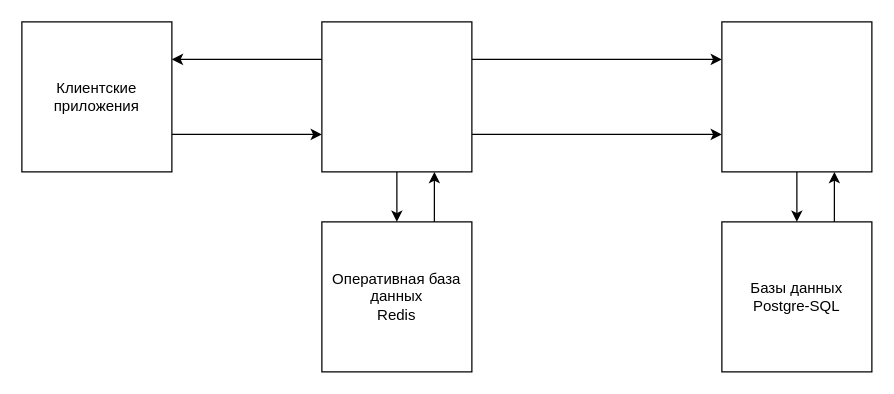
Some shapes in this 894 by 394 pixel diagram are drawn without their labels. The box of each missing label's shape, as (x1, y1, x2, y2) in pixels:
Bekend-сервисы: (721, 21, 872, 172)
АPI-сервисы: (321, 21, 472, 172)
